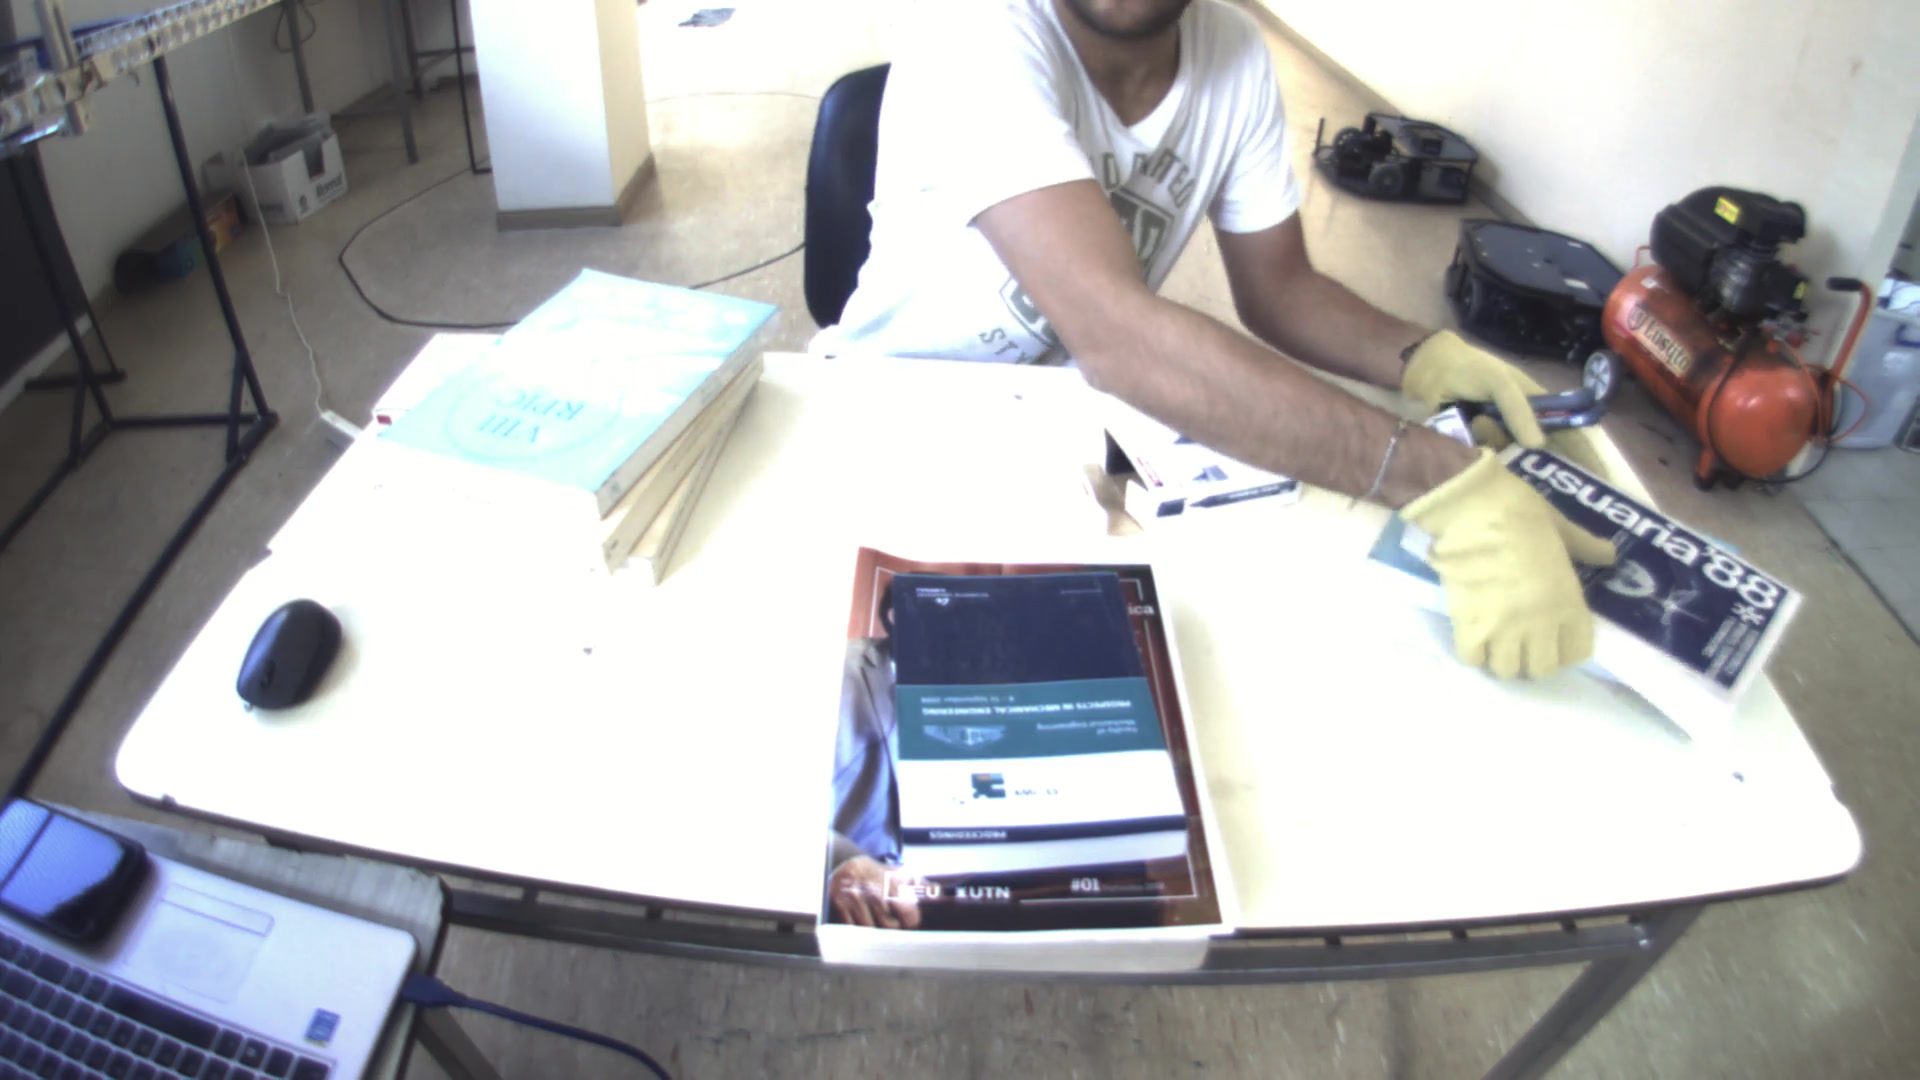hand: (1400, 446, 1615, 688), (1398, 316, 1565, 442)
